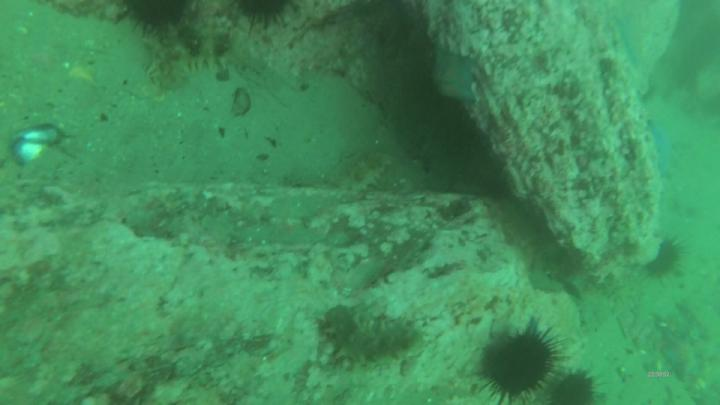echinus: (478, 318, 563, 405), (115, 1, 200, 38), (227, 1, 298, 29), (553, 369, 602, 405), (646, 237, 685, 280)
holothurian: (321, 303, 427, 372), (146, 15, 237, 93), (322, 147, 398, 194)
starfish: (433, 46, 478, 108), (660, 325, 707, 384), (610, 7, 648, 73), (646, 118, 680, 190)
